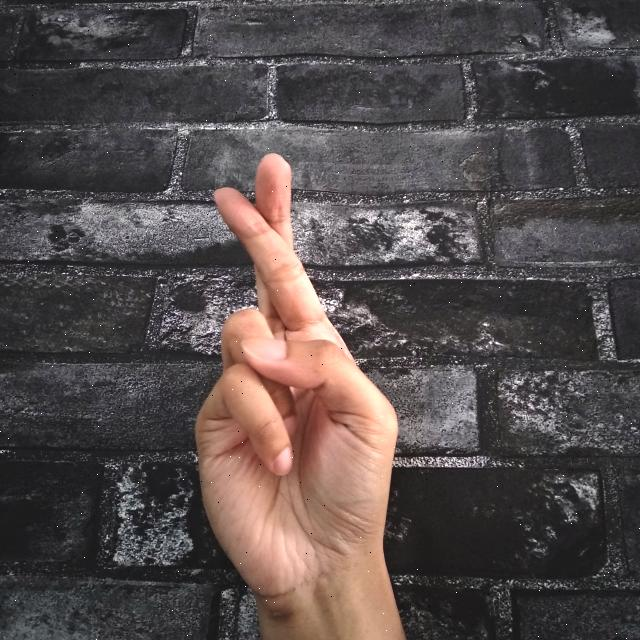R: (188, 148, 410, 640)
